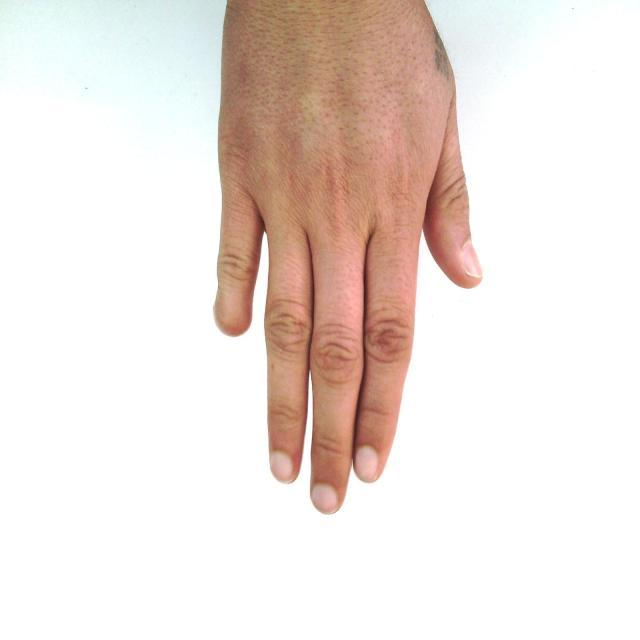Fingernail: (356, 446, 380, 482), (312, 483, 338, 514), (270, 451, 294, 483), (462, 241, 483, 277)
